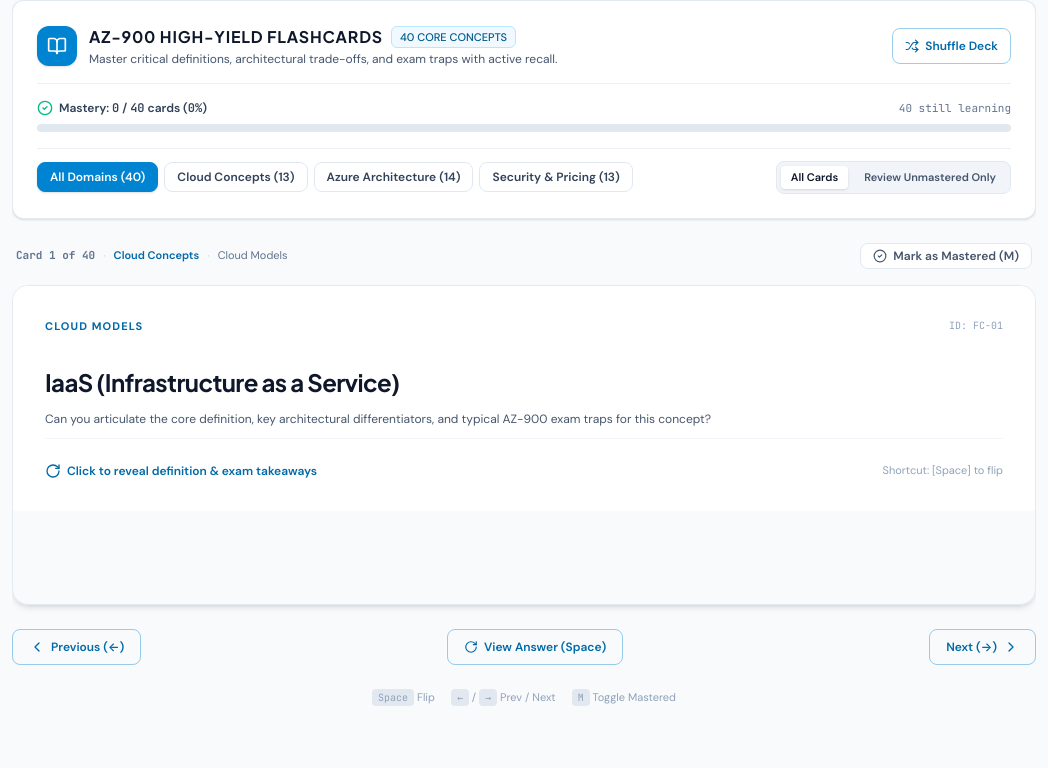
it: FlashcardViewer Component › marks card as mastered and updates progress
Click the button "Mark as Mastered (M)" at (946, 256), box [860,243,1032,269]
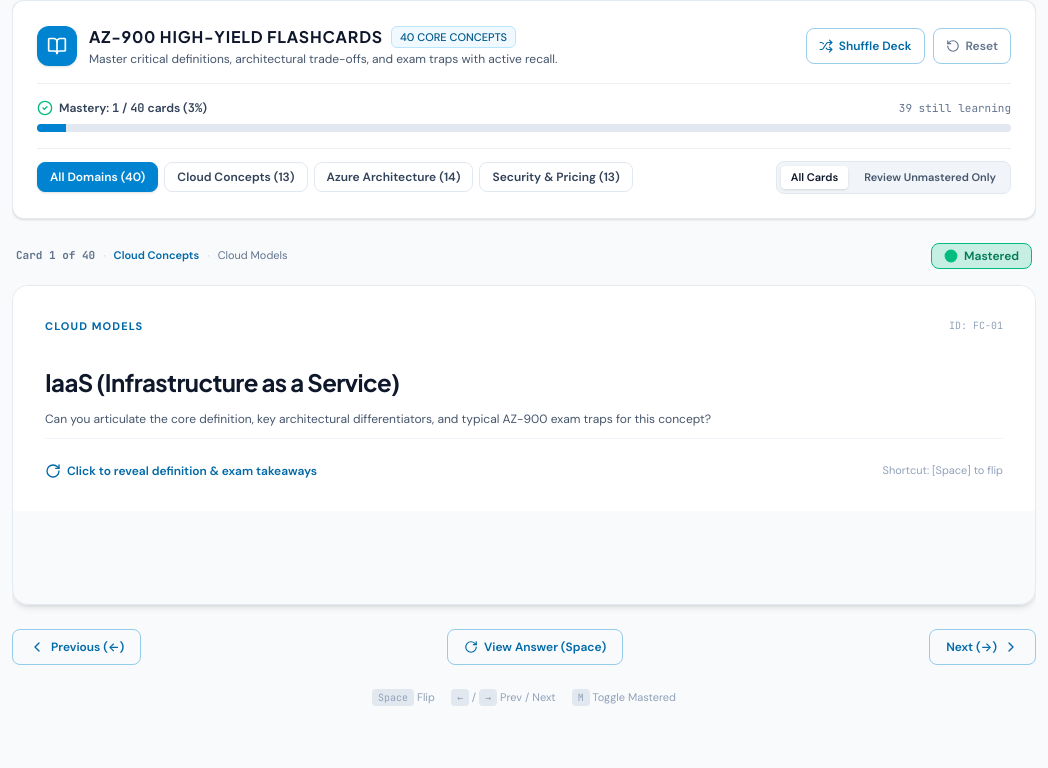
Expected: the element with test id "mastery-progress-label" reads "Mastery: 1 / 40 cards (3%)", [37,100,207,116]
